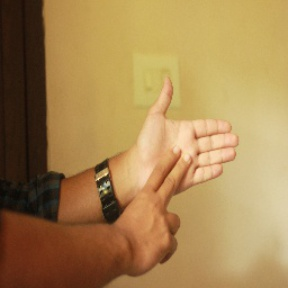N: (116, 73, 244, 263)
